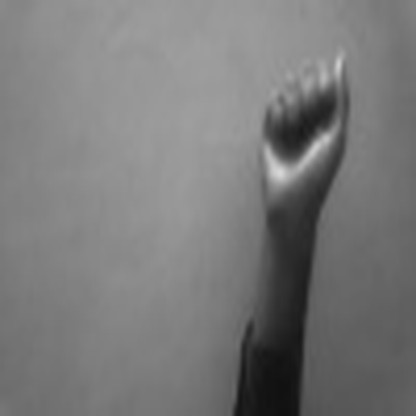a: (250, 41, 359, 224)
